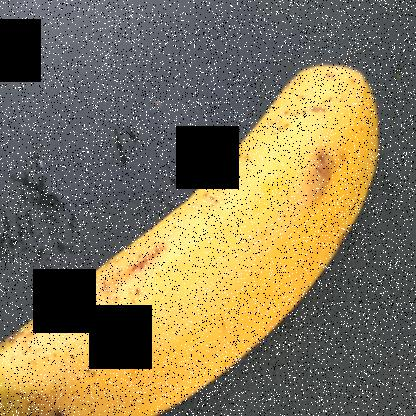ripe: (0, 50, 382, 415)
